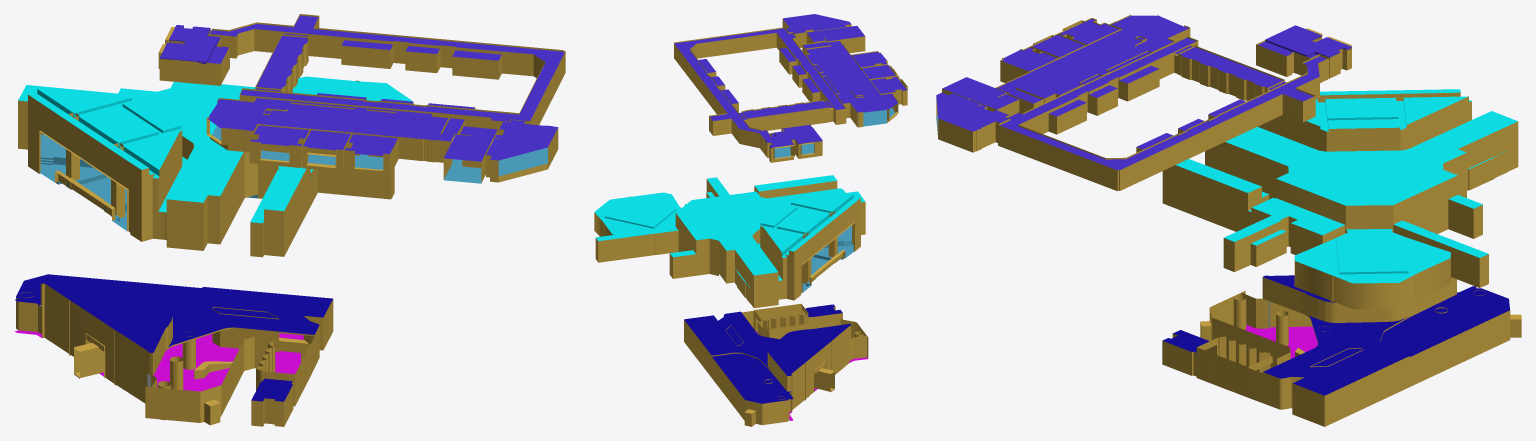
File: beijing_hetugongsi_indoor.FBX
The picture shows the model from 3 angles, left to right: view 1: azimuth 30°, elevation 25°; view 2: azimuth 150°, elevation 25°; view 3: azimuth 270°, elevation 25°; orthographic projection. The views are drawn at different scales.
Parts seen in each view (by area): view 1: bj_hetu_f7_ding, bj_hetu_f7, bj_hetu_f5, bj_hetu_f1, bj_hetu_f5_ding, bj_hetu_f1_ding; view 2: bj_hetu_f5_ding, bj_hetu_f5, bj_hetu_f7_ding, bj_hetu_f7, bj_hetu_f1, bj_hetu_f1_ding; view 3: bj_hetu_f5, bj_hetu_f5_ding, bj_hetu_f1, bj_hetu_f7_ding, bj_hetu_f7, bj_hetu_f1_ding.
Part boxes in pixels (x1,y1,x2,y2): bj_hetu_f7_ding: [159, 15, 564, 161]; bj_hetu_f7: [158, 14, 565, 183]; bj_hetu_f5: [18, 77, 394, 257]; bj_hetu_f1: [15, 283, 333, 426]; bj_hetu_f5_ding: [18, 76, 411, 223]; bj_hetu_f1_ding: [15, 274, 332, 401]; bj_hetu_f5_ding: [594, 175, 864, 287]; bj_hetu_f5: [594, 179, 865, 308]; bj_hetu_f7_ding: [674, 14, 906, 148]; bj_hetu_f7: [674, 18, 907, 162]; bj_hetu_f1: [684, 303, 868, 426]; bj_hetu_f1_ding: [684, 304, 851, 403]; bj_hetu_f5: [1162, 92, 1518, 309]; bj_hetu_f5_ding: [1176, 89, 1517, 283]; bj_hetu_f1: [1162, 277, 1521, 426]; bj_hetu_f7_ding: [936, 15, 1351, 170]; bj_hetu_f7: [936, 14, 1351, 190]; bj_hetu_f1_ding: [1162, 275, 1509, 395].
Bounding box in the file's own units: 41.75 × 61.6 × 36.6.
